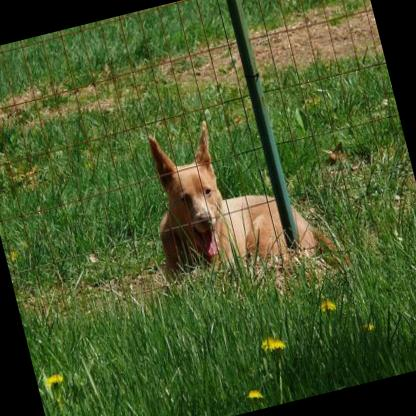kelpie: (134, 102, 319, 290)
